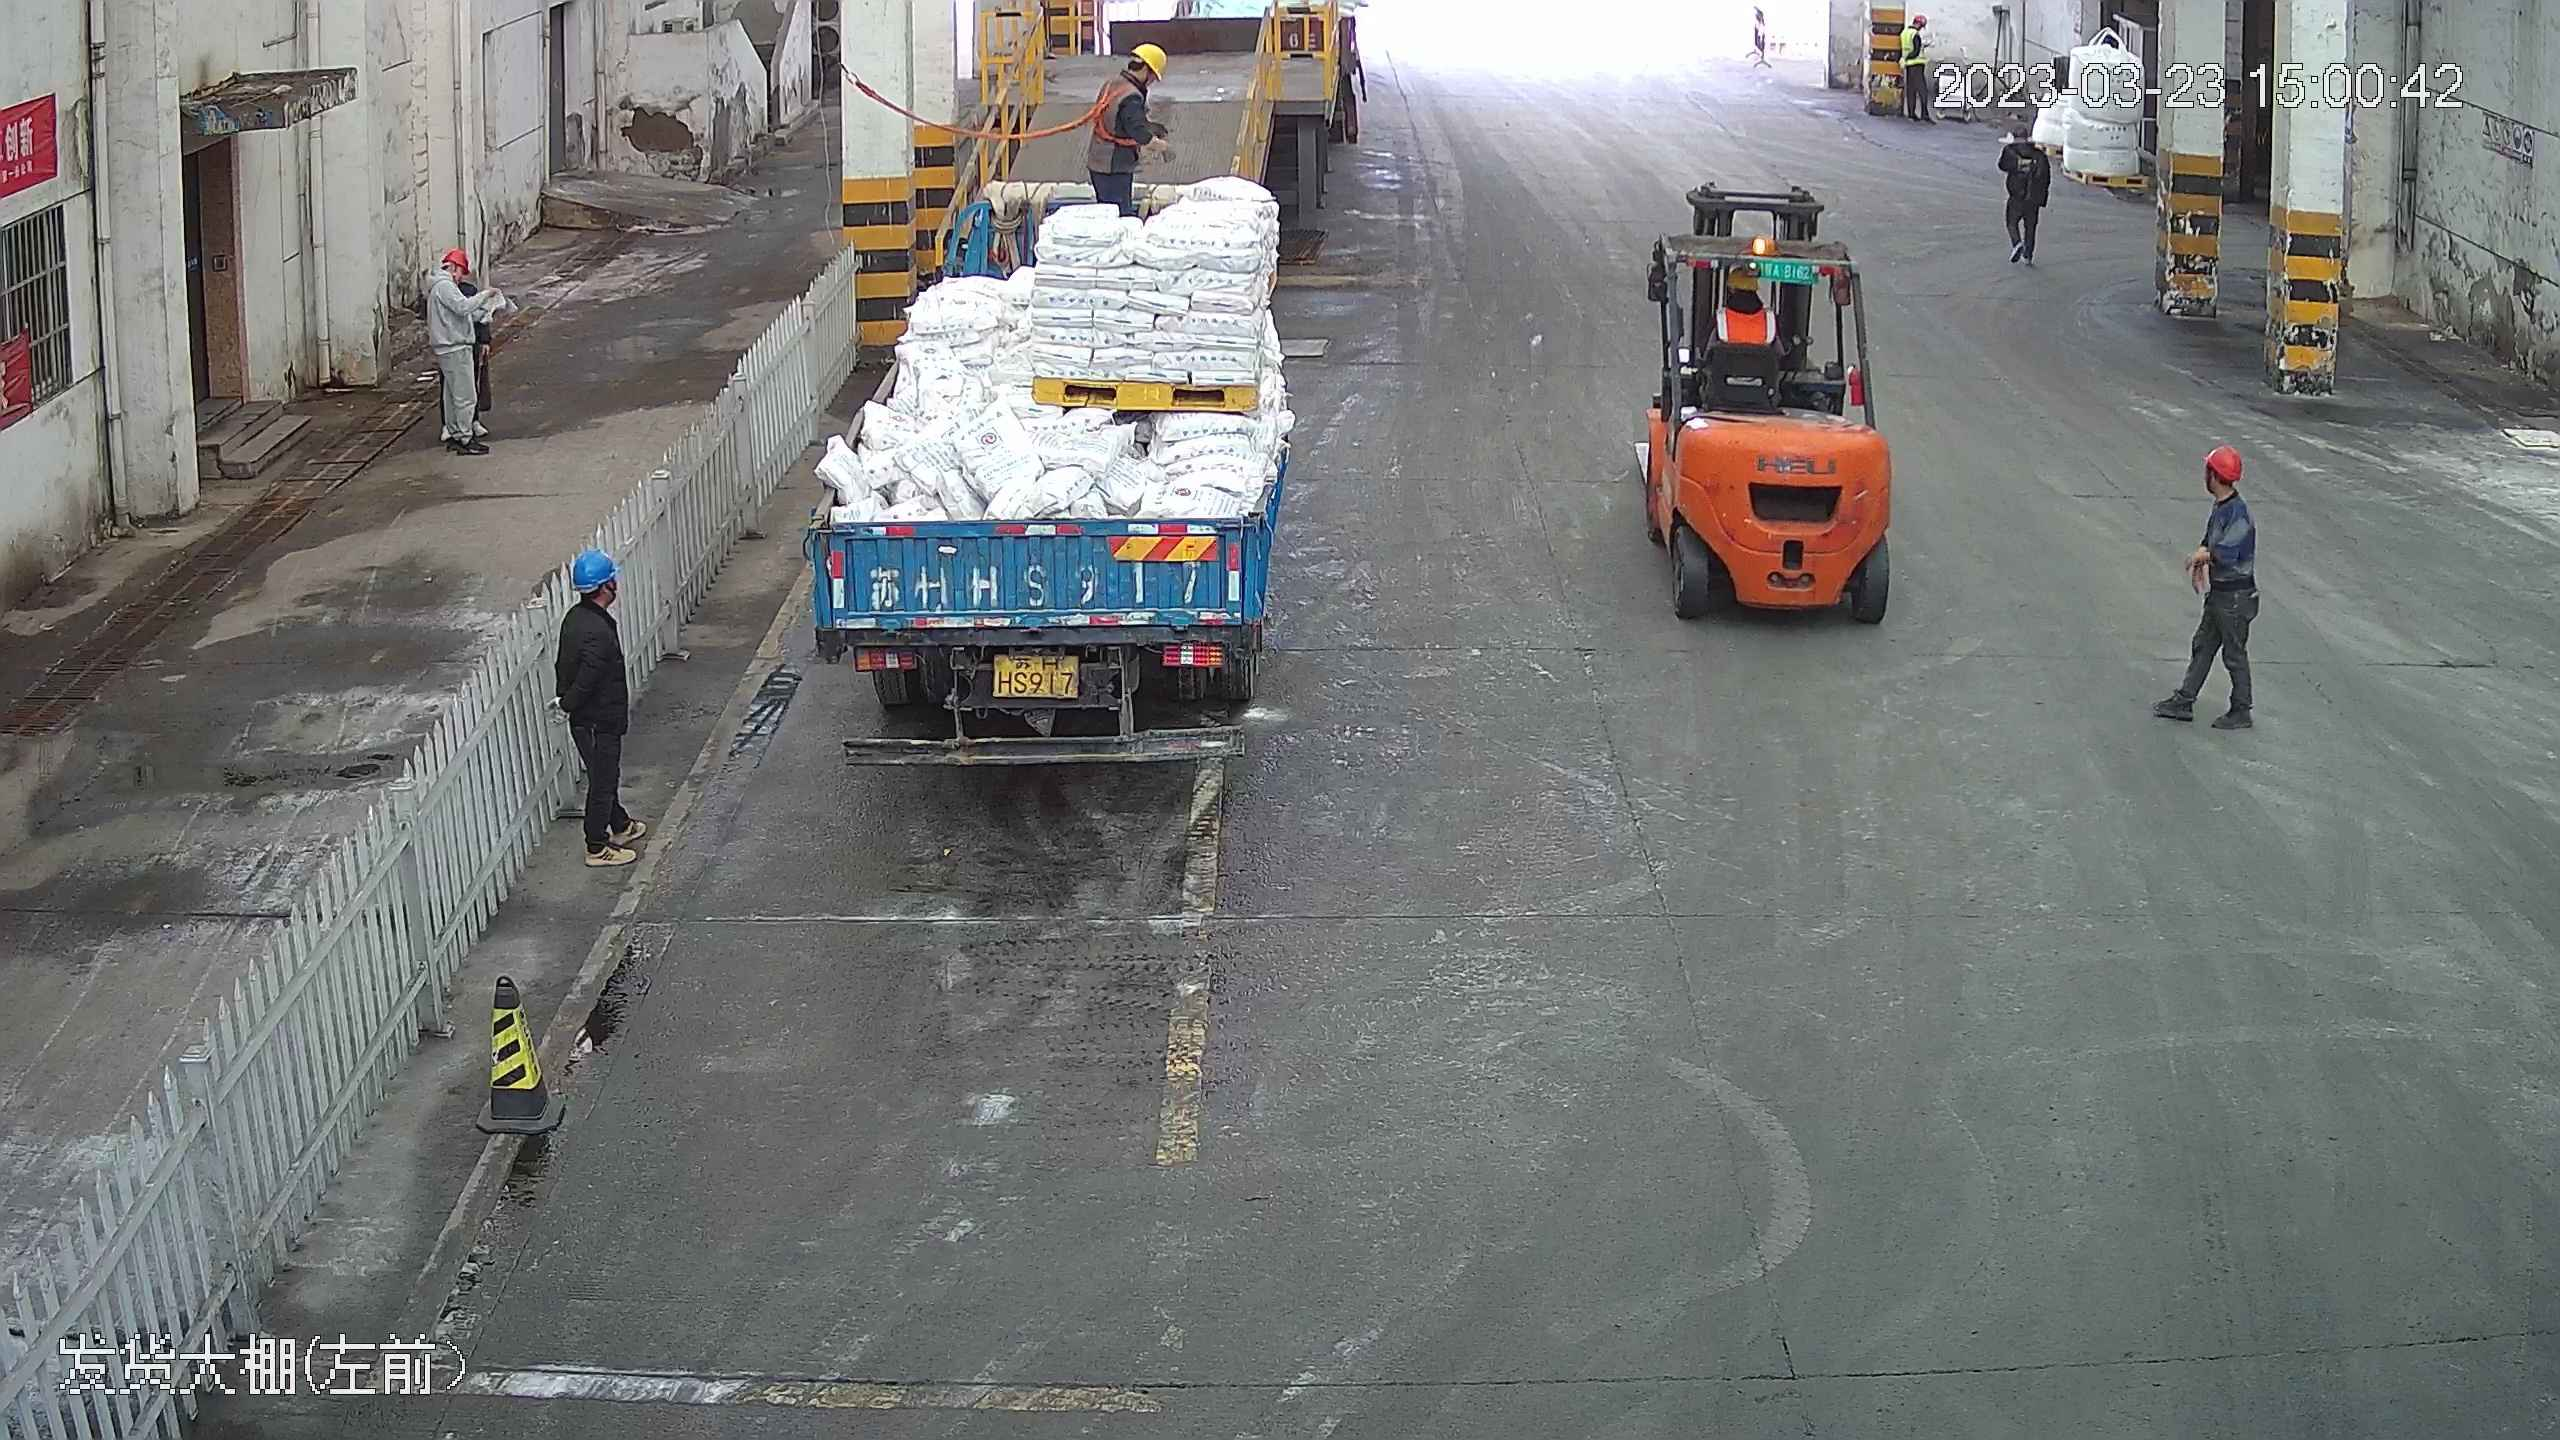belt: (1086, 79, 1144, 144)
head: (557, 545, 627, 646), (2194, 441, 2255, 534), (1711, 265, 1780, 341), (1100, 40, 1169, 110), (426, 242, 486, 308), (2004, 129, 2054, 175)
helmet: (571, 544, 622, 590), (2198, 442, 2243, 480), (1130, 40, 1171, 75), (437, 241, 473, 271), (1726, 268, 1759, 290), (2013, 122, 2029, 140)
people: (2151, 440, 2264, 734), (549, 549, 646, 862), (422, 238, 503, 457), (1085, 38, 1171, 221), (1998, 120, 2054, 270)
truck: (806, 13, 1290, 762)
